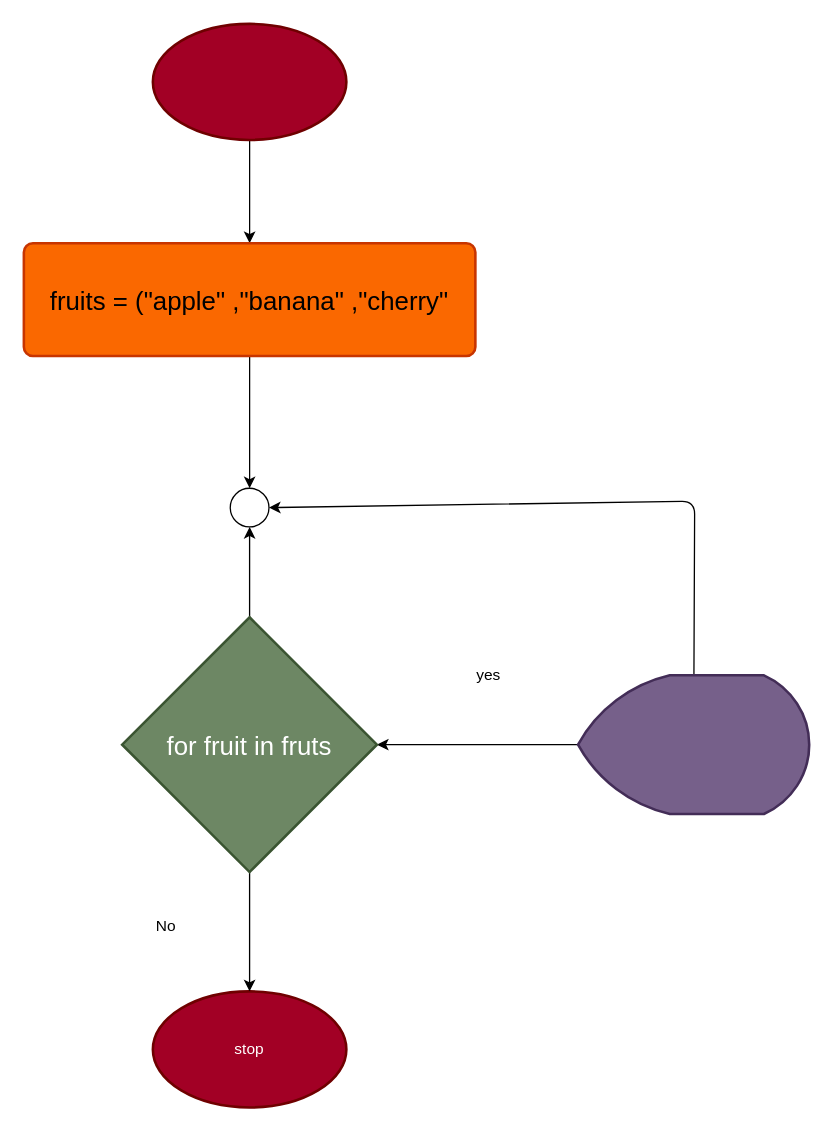
The diagram is 832 pixels wide and 1130 high, and some of its shapes have lost their labels. The box of each missing label's shape, as (x1, y1, x2, y2) in pixels:
Display:fruit: (576, 673, 810, 815)
start: (151, 22, 347, 141)
